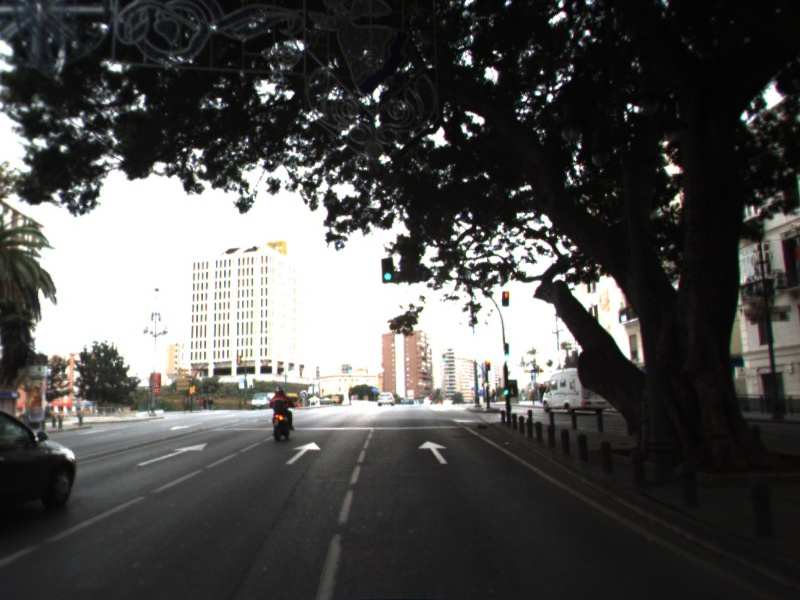STRAIGHT: (134, 440, 210, 468), (283, 440, 323, 466), (416, 437, 451, 465)
